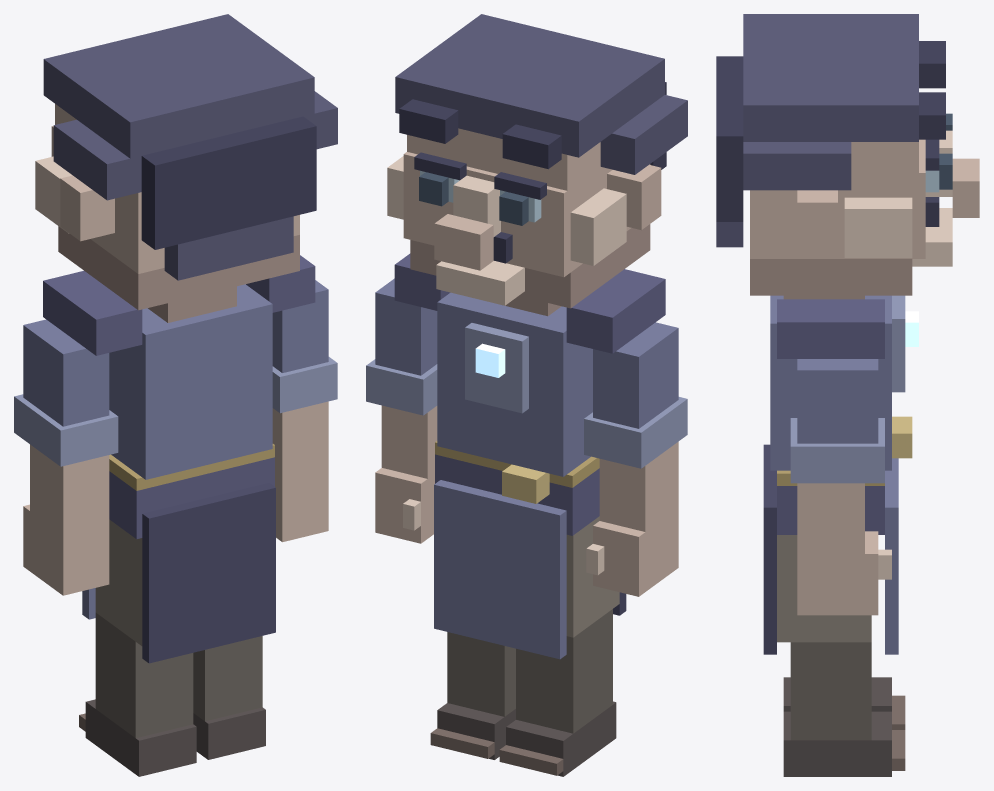
The model's file is voxel_player_scheme_c.glb.
3 renders of one model, left to right at view 1: azimuth 30°, elevation 25°; view 2: azimuth 150°, elevation 25°; view 3: azimuth 270°, elevation 25°, orthographic. The views are drawn at different scales.
Parts seen in each view (by area): view 1: hood_crown, robe_torso, robe_skirt_b, hood_back, wrap_r, sleeve_r, jaw, shoulder_r, fore_r, hand_r, wrap_l, pelvis (+17 smaller); view 2: hood_crown, robe_skirt_f, robe_torso, wrap_r, face_core, sleeve_r, shoulder_r, hand_r, fore_r, wrap_l, jaw, cranium (+31 smaller); view 3: hood_crown, wrap_l, face_core, sleeve_l, shoulder_l, jaw, hand_l, hood_side_l, robe_torso, boot_l, fore_l, hood_back (+21 smaller).
Boxes of the visible parts, x1=… form: hood_crown: x1=43, y1=14, x2=314, y2=158; robe_torso: x1=109, y1=284, x2=272, y2=479; robe_skirt_b: x1=142, y1=483, x2=275, y2=663; hood_back: x1=141, y1=116, x2=316, y2=249; wrap_r: x1=95, y1=613, x2=193, y2=737; sleeve_r: x1=23, y1=319, x2=109, y2=426; jaw: x1=58, y1=226, x2=299, y2=310; shoulder_r: x1=43, y1=271, x2=142, y2=355; fore_r: x1=30, y1=444, x2=109, y2=535; hand_r: x1=23, y1=504, x2=109, y2=595; wrap_l: x1=193, y1=636, x2=262, y2=721; pelvis: x1=109, y1=457, x2=274, y2=539; hood_crown: x1=395, y1=14, x2=664, y2=157; robe_skirt_f: x1=434, y1=480, x2=566, y2=659; robe_torso: x1=437, y1=292, x2=592, y2=476; wrap_r: x1=516, y1=609, x2=612, y2=733; face_core: x1=403, y1=152, x2=650, y2=277; sleeve_r: x1=593, y1=322, x2=678, y2=428; shoulder_r: x1=566, y1=269, x2=665, y2=353; hand_r: x1=593, y1=508, x2=678, y2=596; fore_r: x1=599, y1=441, x2=678, y2=531; wrap_l: x1=447, y1=632, x2=515, y2=716; jaw: x1=410, y1=224, x2=650, y2=308; cranium: x1=407, y1=128, x2=600, y2=190; hood_crown: x1=743, y1=14, x2=918, y2=141; wrap_l: x1=790, y1=642, x2=871, y2=740; face_core: x1=750, y1=139, x2=925, y2=258; sleeve_l: x1=797, y1=359, x2=878, y2=443; shoulder_l: x1=777, y1=299, x2=884, y2=358; jaw: x1=750, y1=259, x2=912, y2=295; hand_l: x1=797, y1=531, x2=878, y2=615; hood_side_l: x1=743, y1=142, x2=851, y2=190; robe_torso: x1=770, y1=295, x2=891, y2=470; boot_l: x1=783, y1=711, x2=891, y2=776; fore_l: x1=797, y1=483, x2=864, y2=553; hood_back: x1=716, y1=56, x2=743, y2=221.
Size of the model in its own units: 0.75 by 1.75 by 0.6094.
